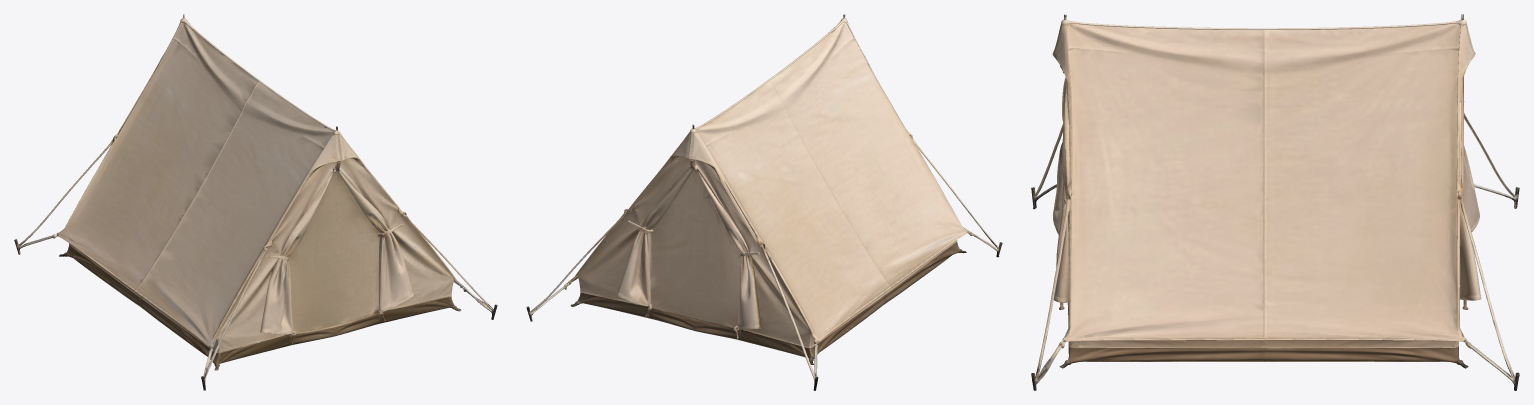
The model's file is canvas_ridge_tent.glb.
3 renders of one model, left to right at view 1: azimuth 30°, elevation 25°; view 2: azimuth 150°, elevation 25°; view 3: azimuth 270°, elevation 25°, orthographic. The views are drawn at different scales.
Parts seen in each view (by area): view 1: geometry_0; view 2: geometry_0; view 3: geometry_0.
Boxes of the visible parts, x1=… form: geometry_0: x1=14, y1=14, x2=497, y2=390; geometry_0: x1=526, y1=14, x2=1002, y2=390; geometry_0: x1=1031, y1=14, x2=1519, y2=390.
Size of the model in its own units: 3.1 by 2.2 by 3.41.
Materials: 1 (1 with a texture image).
